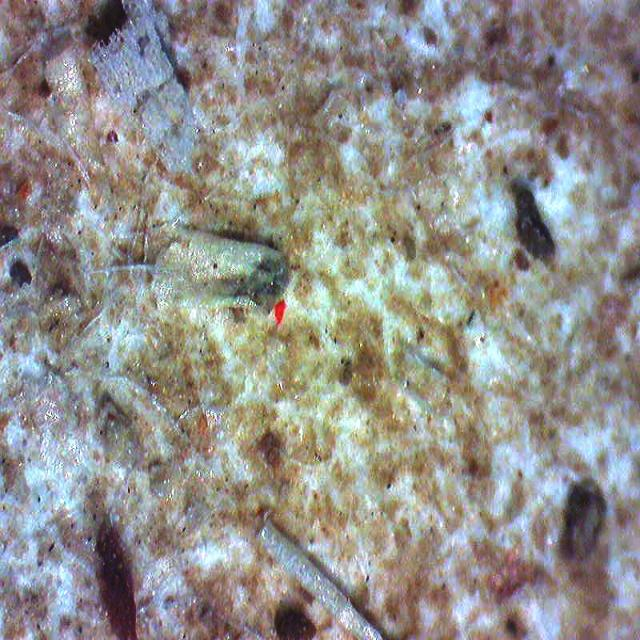microplastic: (274, 299, 286, 324)
